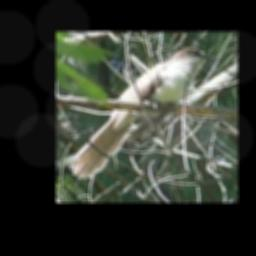Cuckoo: (70, 48, 220, 178)
